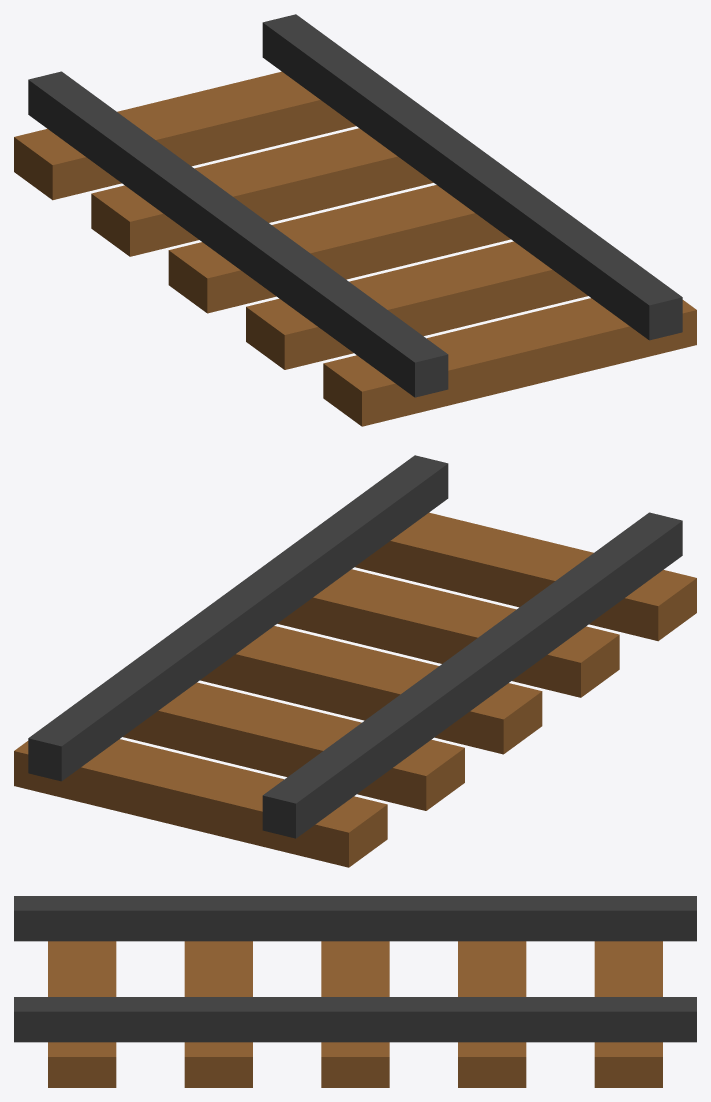
The model's file is rails.glb.
3 renders of one model, top to bottom at view 1: azimuth 30°, elevation 25°; view 2: azimuth 150°, elevation 25°; view 3: azimuth 270°, elevation 25°, orthographic. The views are drawn at different scales.
Parts seen in each view (by area): view 1: Object_2; view 2: Object_2; view 3: Object_2.
Boxes of the visible parts, x1,y1,x2,y2 form: Object_2: (14,14,696,426); Object_2: (14,455,696,867); Object_2: (14,896,696,1087).
Bounding box in the file's own units: 10 × 2 × 20.
1 material, 1 textured.
